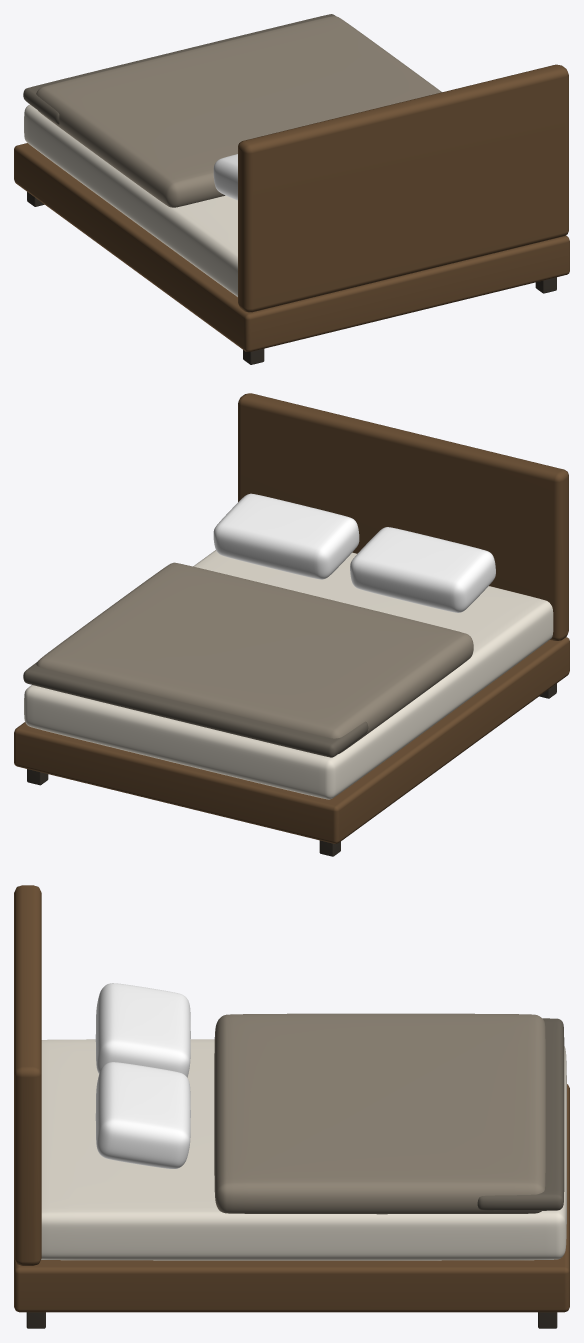
The model's file is bed.glb.
The picture shows the model from 3 angles, top to bottom: view 1: azimuth 30°, elevation 25°; view 2: azimuth 150°, elevation 25°; view 3: azimuth 270°, elevation 25°; orthographic projection. The views are drawn at different scales.
Parts seen in each view (by area): view 1: leg; view 2: leg; view 3: leg.
Boxes of the visible parts, x1,y1,x2,y2 form: leg: (14,14,569,364); leg: (14,393,569,856); leg: (14,885,569,1328).
Size of the model in its own units: 1.6 by 1.05 by 2.
